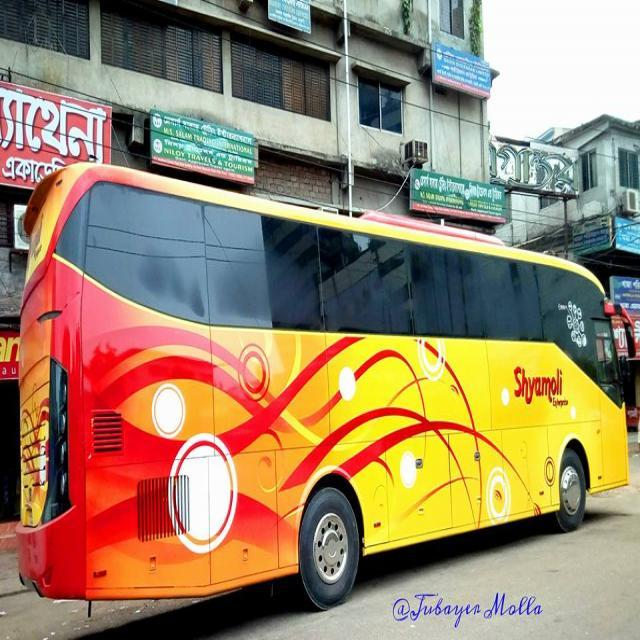bus: (13, 157, 638, 615)
